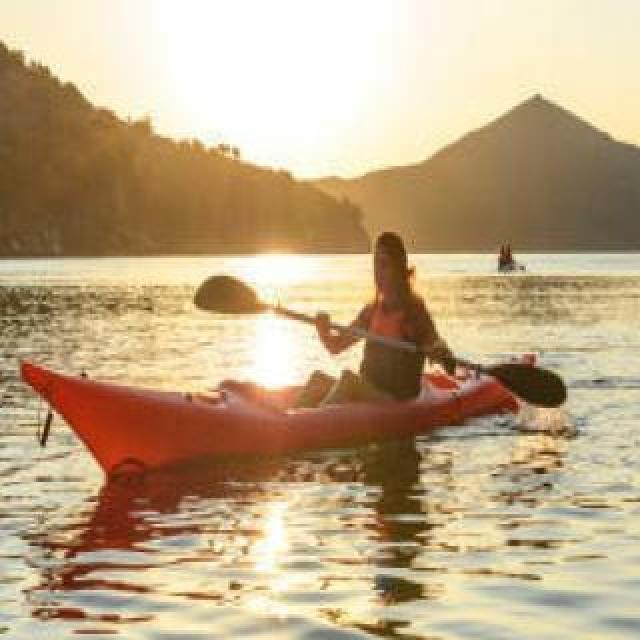kayak: (21, 361, 519, 477)
